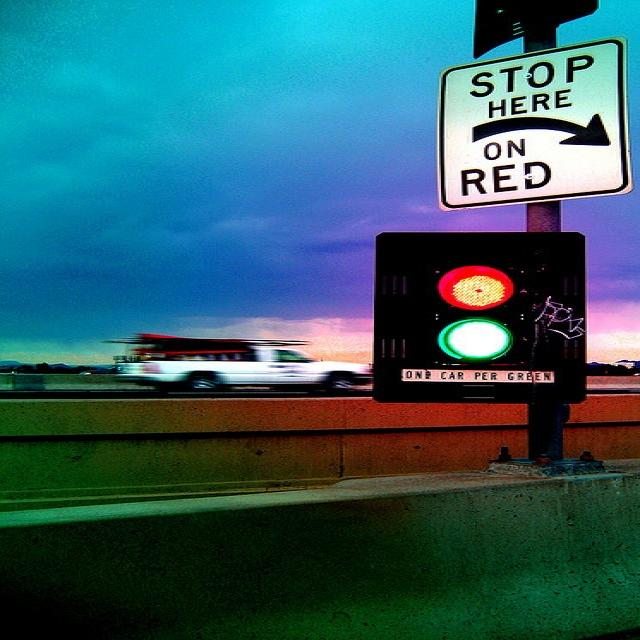truck: (110, 332, 372, 392)
